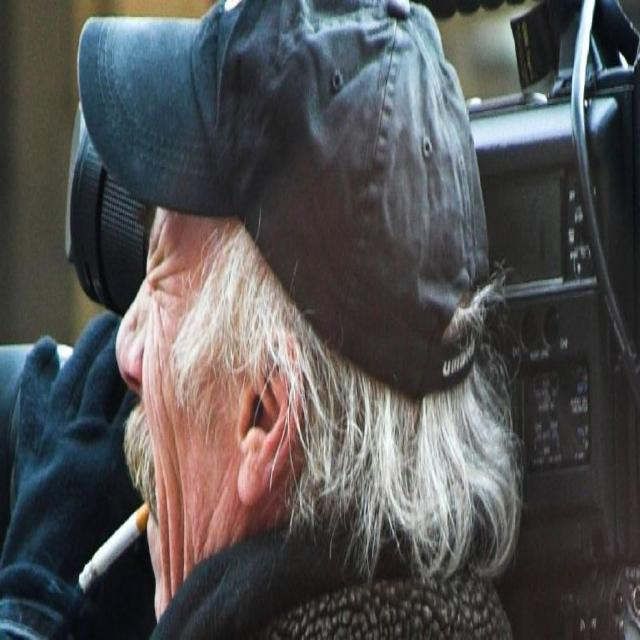Hat: (79, 0, 491, 398)
